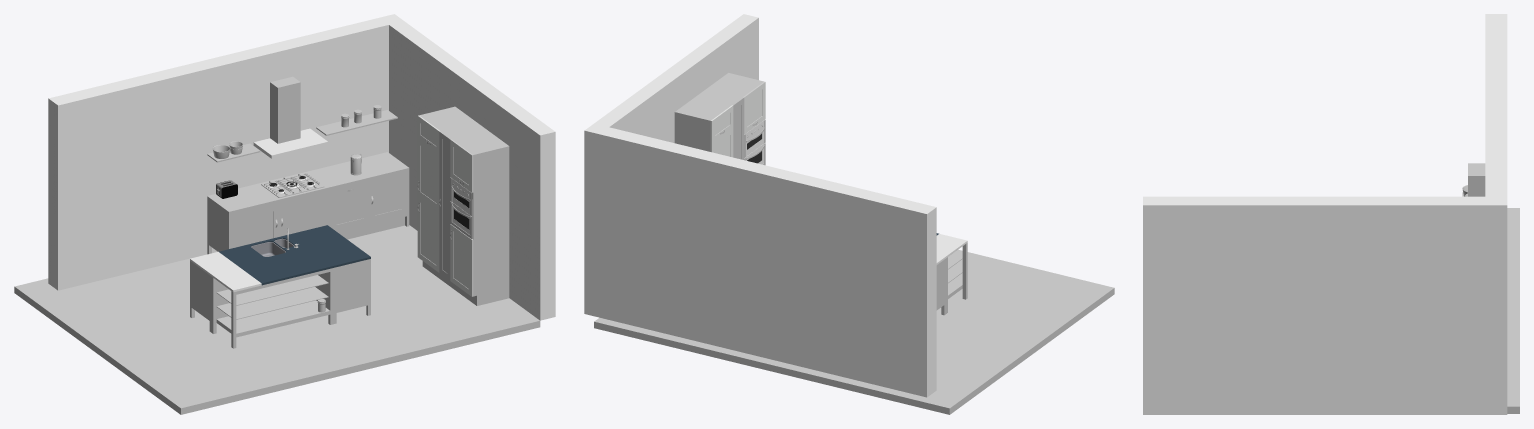
File: kitchen English.fbx
3 views of the same model, side by side, from view 1: azimuth 30°, elevation 25°; view 2: azimuth 150°, elevation 25°; view 3: azimuth 270°, elevation 25° (orthographic). The views are drawn at different scales.
Parts seen in each view (by area): view 1: Group_053, Group_145, Group_005, Group_006, Group_020, Group_021, Group_054, Group_004, Group_088, Group_003, Group_044, Group_089 (+15 smaller); view 2: Group_053, Group_145, Group_022, Group_021, Group_004, Group_005, Group_003, Group_006, Group_126; view 3: Group_053, Group_145, Group_088.
Boxes of the visible parts, x1,y1,x2,y2 form: Group_053: [48, 14, 555, 320]; Group_145: [14, 225, 540, 414]; Group_005: [452, 130, 509, 305]; Group_006: [190, 225, 370, 292]; Group_020: [216, 275, 330, 334]; Group_021: [417, 115, 440, 272]; Group_054: [207, 152, 409, 213]; Group_004: [450, 139, 473, 296]; Group_088: [270, 76, 300, 143]; Group_003: [439, 131, 450, 280]; Group_044: [336, 259, 367, 312]; Group_089: [253, 128, 328, 158]; Group_053: [584, 14, 936, 397]; Group_145: [594, 249, 1114, 414]; Group_022: [674, 96, 731, 151]; Group_021: [710, 105, 733, 157]; Group_004: [743, 81, 765, 134]; Group_005: [707, 73, 763, 97]; Group_003: [732, 97, 744, 159]; Group_006: [936, 233, 967, 264]; Group_126: [745, 127, 764, 164]; Group_053: [1143, 14, 1507, 414]; Group_145: [1507, 208, 1519, 413]; Group_088: [1468, 163, 1485, 196].
Size of the model in its own units: 236 by 115 by 181.
